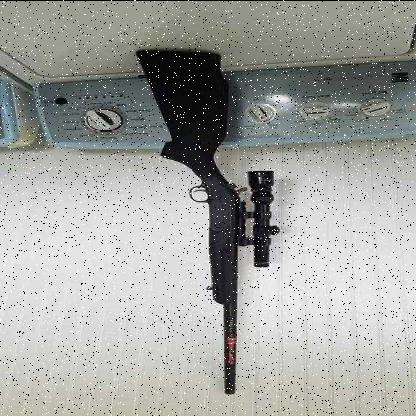rifle: (133, 44, 295, 392)
